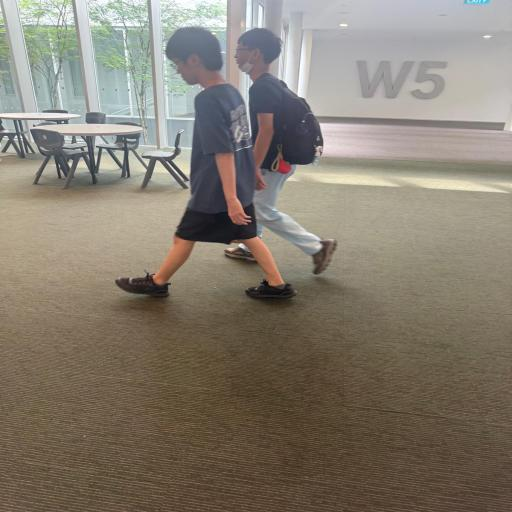person_left: (115, 26, 298, 299), (224, 27, 337, 275), (224, 28, 337, 275)
